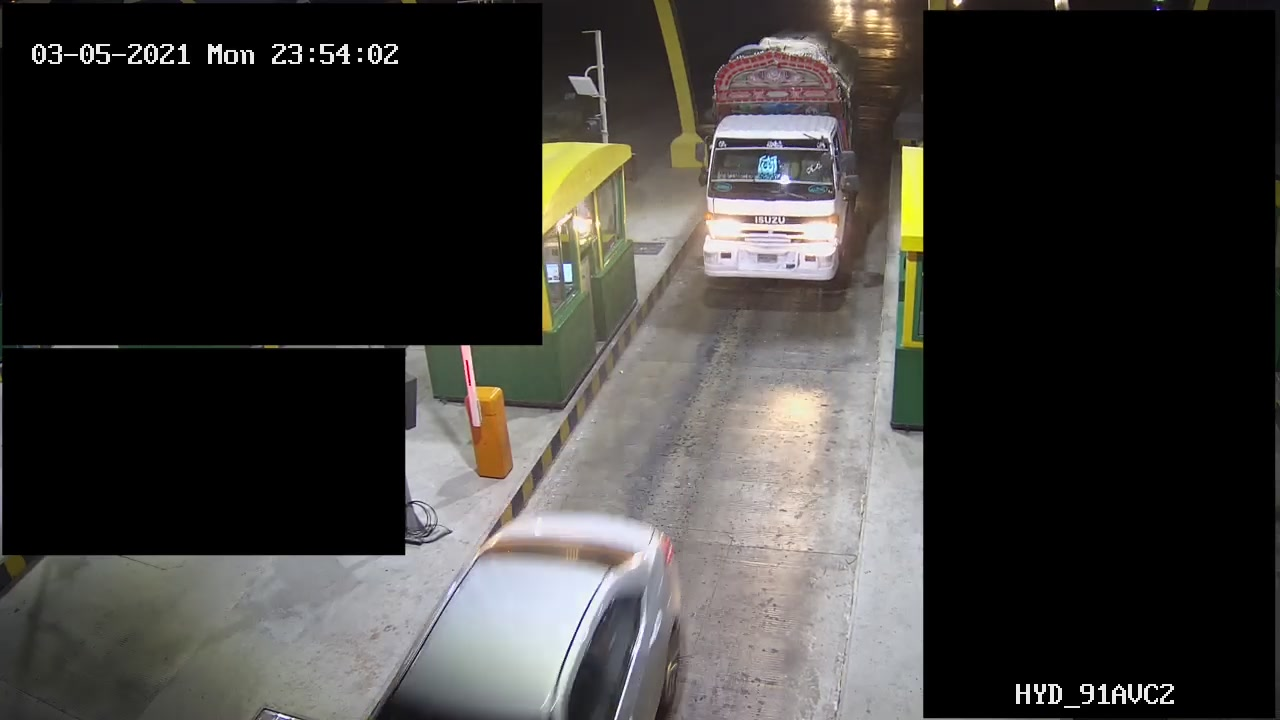F3: (694, 28, 868, 292)
